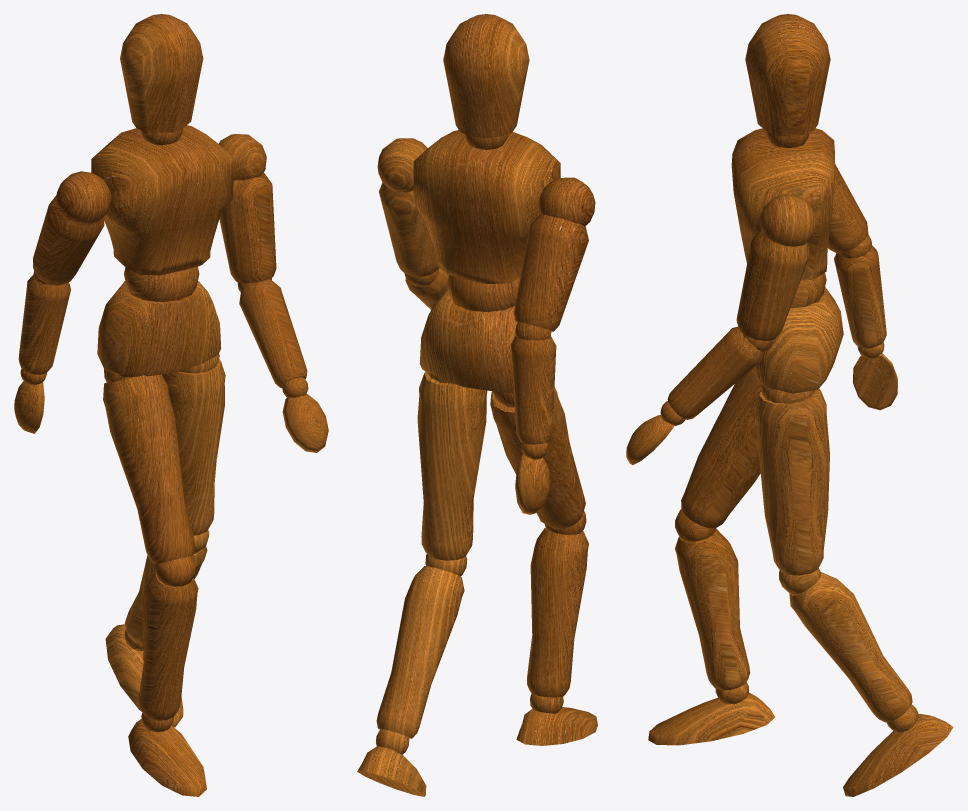
Rendered from dummy_obj_2.obj.
3 renders of one model, left to right at view 1: azimuth 30°, elevation 25°; view 2: azimuth 150°, elevation 25°; view 3: azimuth 270°, elevation 25°, orthographic. The views are drawn at different scales.
Visible parts, largest first — view 1: dummy_hips3_dummy_belly_dummy_torso, dummy_hips3_dummy_rpelvis_dummy_rupleg, dummy_hips3, dummy_hips3_dummy_belly_dummy_torso_dummy_neck_dummy_headq, dummy_hips3_dummy_lpelvis_dummy_lupleg, dummy_hips3_dummy_rpelvis_dummy_rupleg_dummy_rknee_dummy_rleg, dummy_hips3_dummy_belly_dummy_torso_dummy_lshoulder_dummy_larm, dummy_hips3_dummy_belly_dummy_torso_dummy_lshoulder_dummy_l.000, dummy_hips3_dummy_rpelvis_dummy_rupleg_dummy_rknee_dummy_rleg_d, dummy_hips3_dummy_belly_dummy_torso_dummy_rshoulder_dummy_r.001, dummy_hips3_dummy_belly_dummy_torso_dummy_rshoulder_dummy_rarm, dummy_hips3_dummy_belly_dummy_torso_dummy_rshoulder (+7 smaller); view 2: dummy_hips3_dummy_belly_dummy_torso, dummy_hips3_dummy_lpelvis_dummy_lupleg, dummy_hips3_dummy_belly_dummy_torso_dummy_neck_dummy_headq, dummy_hips3_dummy_lpelvis_dummy_lupleg_dummy_lknee_dummy_lleg, dummy_hips3_dummy_rpelvis_dummy_rupleg_dummy_rknee_dummy_rleg, dummy_hips3, dummy_hips3_dummy_belly_dummy_torso_dummy_rshoulder_dummy_rarm, dummy_hips3_dummy_rpelvis_dummy_rupleg, dummy_hips3_dummy_belly_dummy_torso_dummy_rshoulder_dummy_r.001, dummy_hips3_dummy_belly_dummy_torso_dummy_lshoulder_dummy_larm, dummy_hips3_dummy_rpelvis_dummy_rupleg_dummy_rknee_dummy_rleg_d, dummy_hips3_dummy_belly_dummy_torso_dummy_rshoulder (+10 smaller); view 3: dummy_hips3_dummy_lpelvis_dummy_lupleg, dummy_hips3_dummy_belly_dummy_torso, dummy_hips3_dummy_belly_dummy_torso_dummy_neck_dummy_headq, dummy_hips3_dummy_lpelvis_dummy_lupleg_dummy_lknee_dummy_lleg, dummy_hips3_dummy_rpelvis_dummy_rupleg_dummy_rknee_dummy_rleg, dummy_hips3_dummy_rpelvis_dummy_rupleg, dummy_hips3, dummy_hips3_dummy_belly_dummy_torso_dummy_lshoulder_dummy_larm, dummy_hips3_dummy_belly_dummy_torso_dummy_lshoulder_dummy_l.000, dummy_hips3_dummy_rpelvis_dummy_rupleg_dummy_rknee_dummy_rleg_d, dummy_hips3_dummy_lpelvis_dummy_lupleg_dummy_lknee_dummy_ll.000, dummy_hips3_dummy_belly_dummy_torso_dummy_rshoulder_dummy_r.001 (+7 smaller).
Part boxes in pixels (x1,y1,x2,y2): dummy_hips3_dummy_belly_dummy_torso: (91, 125, 233, 275); dummy_hips3_dummy_rpelvis_dummy_rupleg: (103, 374, 195, 563); dummy_hips3: (97, 281, 221, 377); dummy_hips3_dummy_belly_dummy_torso_dummy_neck_dummy_headq: (120, 14, 203, 132); dummy_hips3_dummy_lpelvis_dummy_lupleg: (162, 358, 225, 535); dummy_hips3_dummy_rpelvis_dummy_rupleg_dummy_rknee_dummy_rleg: (138, 573, 198, 720); dummy_hips3_dummy_belly_dummy_torso_dummy_lshoulder_dummy_larm: (219, 172, 276, 283); dummy_hips3_dummy_belly_dummy_torso_dummy_lshoulder_dummy_l.000: (239, 279, 307, 387); dummy_hips3_dummy_rpelvis_dummy_rupleg_dummy_rknee_dummy_rleg_d: (128, 719, 206, 796); dummy_hips3_dummy_belly_dummy_torso_dummy_rshoulder_dummy_r.001: (18, 274, 70, 374); dummy_hips3_dummy_belly_dummy_torso_dummy_rshoulder_dummy_rarm: (33, 195, 104, 285); dummy_hips3_dummy_belly_dummy_torso_dummy_rshoulder: (56, 171, 111, 225); dummy_hips3_dummy_belly_dummy_torso: (413, 130, 560, 283); dummy_hips3_dummy_lpelvis_dummy_lupleg: (417, 371, 487, 560); dummy_hips3_dummy_belly_dummy_torso_dummy_neck_dummy_headq: (443, 14, 529, 138); dummy_hips3_dummy_lpelvis_dummy_lupleg_dummy_lknee_dummy_lleg: (376, 566, 464, 738); dummy_hips3_dummy_rpelvis_dummy_rupleg_dummy_rknee_dummy_rleg: (527, 527, 588, 697); dummy_hips3: (419, 290, 517, 392); dummy_hips3_dummy_belly_dummy_torso_dummy_rshoulder_dummy_rarm: (513, 214, 588, 331); dummy_hips3_dummy_rpelvis_dummy_rupleg: (490, 387, 585, 528); dummy_hips3_dummy_belly_dummy_torso_dummy_rshoulder_dummy_r.001: (510, 336, 556, 444); dummy_hips3_dummy_belly_dummy_torso_dummy_lshoulder_dummy_larm: (379, 182, 439, 277); dummy_hips3_dummy_rpelvis_dummy_rupleg_dummy_rknee_dummy_rleg_d: (516, 707, 597, 745); dummy_hips3_dummy_belly_dummy_torso_dummy_rshoulder: (538, 177, 595, 225); dummy_hips3_dummy_lpelvis_dummy_lupleg: (755, 388, 829, 575); dummy_hips3_dummy_belly_dummy_torso: (731, 128, 834, 280); dummy_hips3_dummy_belly_dummy_torso_dummy_neck_dummy_headq: (745, 14, 830, 136); dummy_hips3_dummy_lpelvis_dummy_lupleg_dummy_lknee_dummy_lleg: (789, 571, 912, 722); dummy_hips3_dummy_rpelvis_dummy_rupleg_dummy_rknee_dummy_rleg: (675, 528, 750, 690); dummy_hips3_dummy_rpelvis_dummy_rupleg: (681, 370, 761, 528); dummy_hips3: (752, 287, 843, 393); dummy_hips3_dummy_belly_dummy_torso_dummy_lshoulder_dummy_larm: (736, 230, 810, 340); dummy_hips3_dummy_belly_dummy_torso_dummy_lshoulder_dummy_l.000: (667, 326, 764, 419); dummy_hips3_dummy_rpelvis_dummy_rupleg_dummy_rknee_dummy_rleg_d: (648, 692, 775, 745); dummy_hips3_dummy_lpelvis_dummy_lupleg_dummy_lknee_dummy_ll.000: (843, 714, 953, 796); dummy_hips3_dummy_belly_dummy_torso_dummy_rshoulder_dummy_r.001: (834, 245, 886, 348).
Size of the model in its own units: 52.56 by 180 by 70.44.
Materials: 1 (1 with a texture image).
